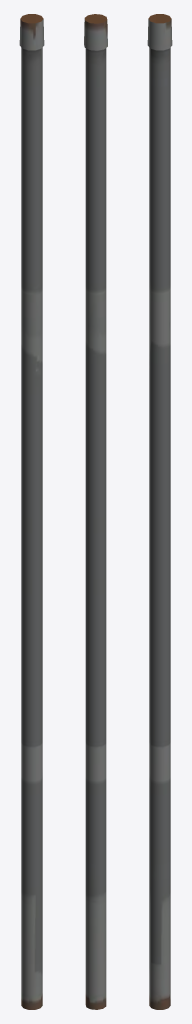
3 views of the same model, side by side, from view 1: azimuth 90°, elevation 25°; view 2: azimuth 150°, elevation 25°; view 3: azimuth 270°, elevation 25° (orthographic).
Parts seen in each view (by area): view 1: body0_model0_lod0_mesh0; view 2: body0_model0_lod0_mesh0; view 3: body0_model0_lod0_mesh0.
Boxes of the visible parts, bbox=[...] form: body0_model0_lod0_mesh0: bbox=[19, 14, 44, 1009]; body0_model0_lod0_mesh0: bbox=[84, 14, 107, 1009]; body0_model0_lod0_mesh0: bbox=[147, 14, 172, 1009].
Size of the model in its own units: 6.36 by 296 by 6.68.
Materials: 1 (1 with a texture image).
